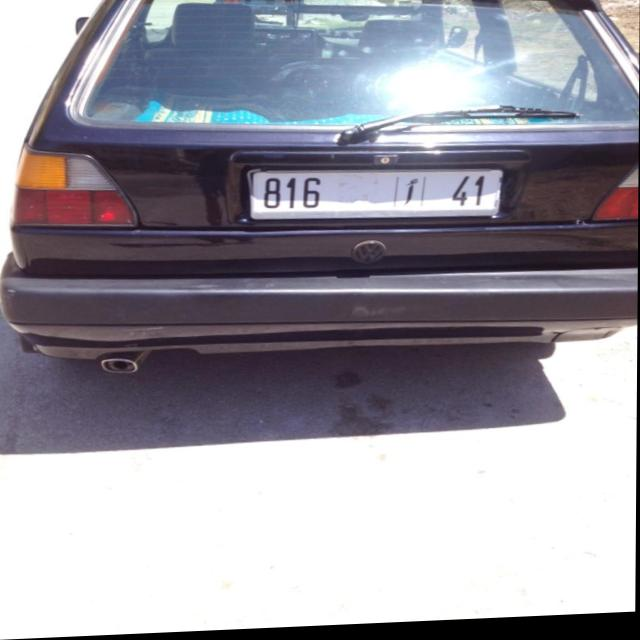License-Plate: (250, 173, 502, 222)
